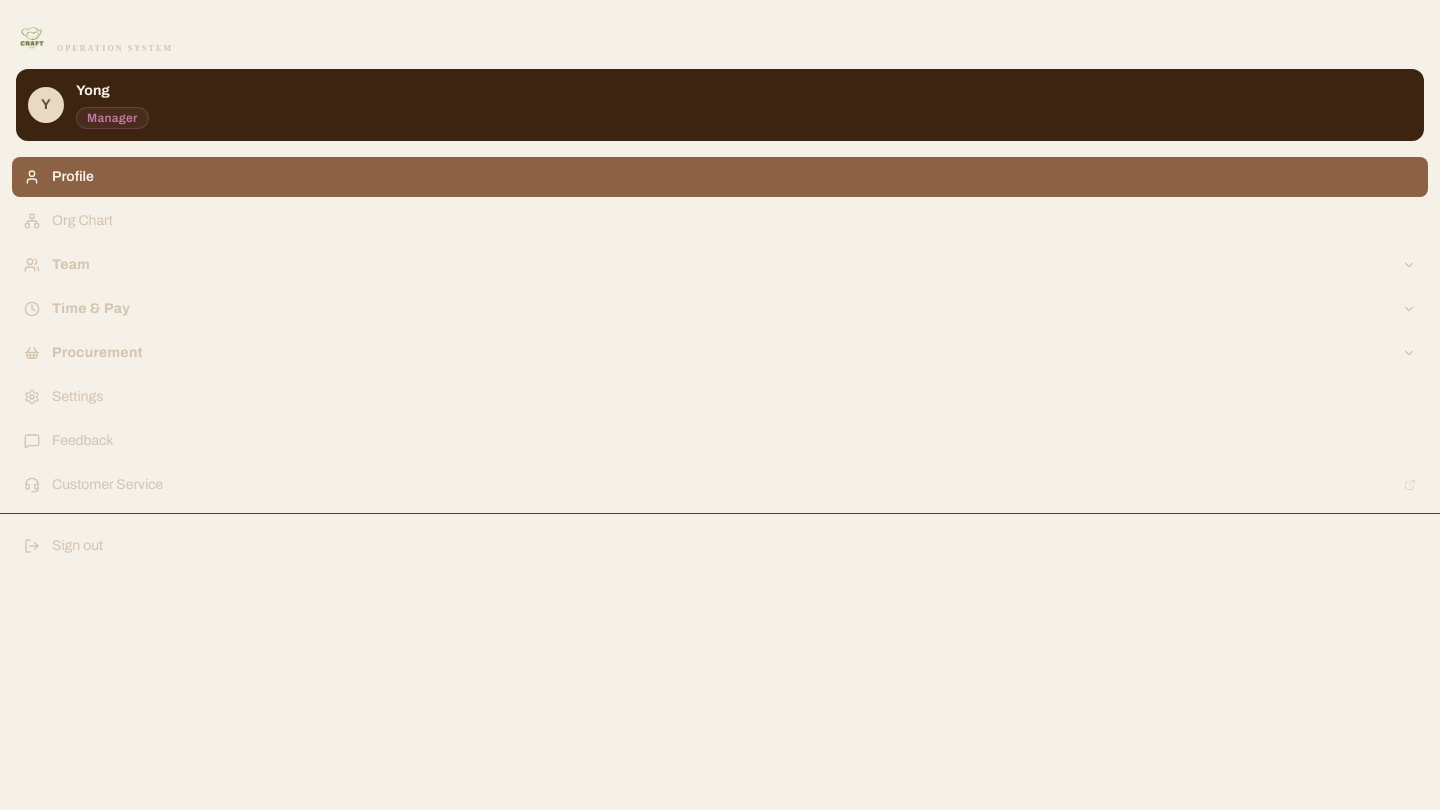
Test case: Customer Service entry › shows the failure message and keeps the drawer open
The width and height of the screenshot is (1440, 810).
Click the button "Customer Service" at (108, 484), box [12,465,1428,505]
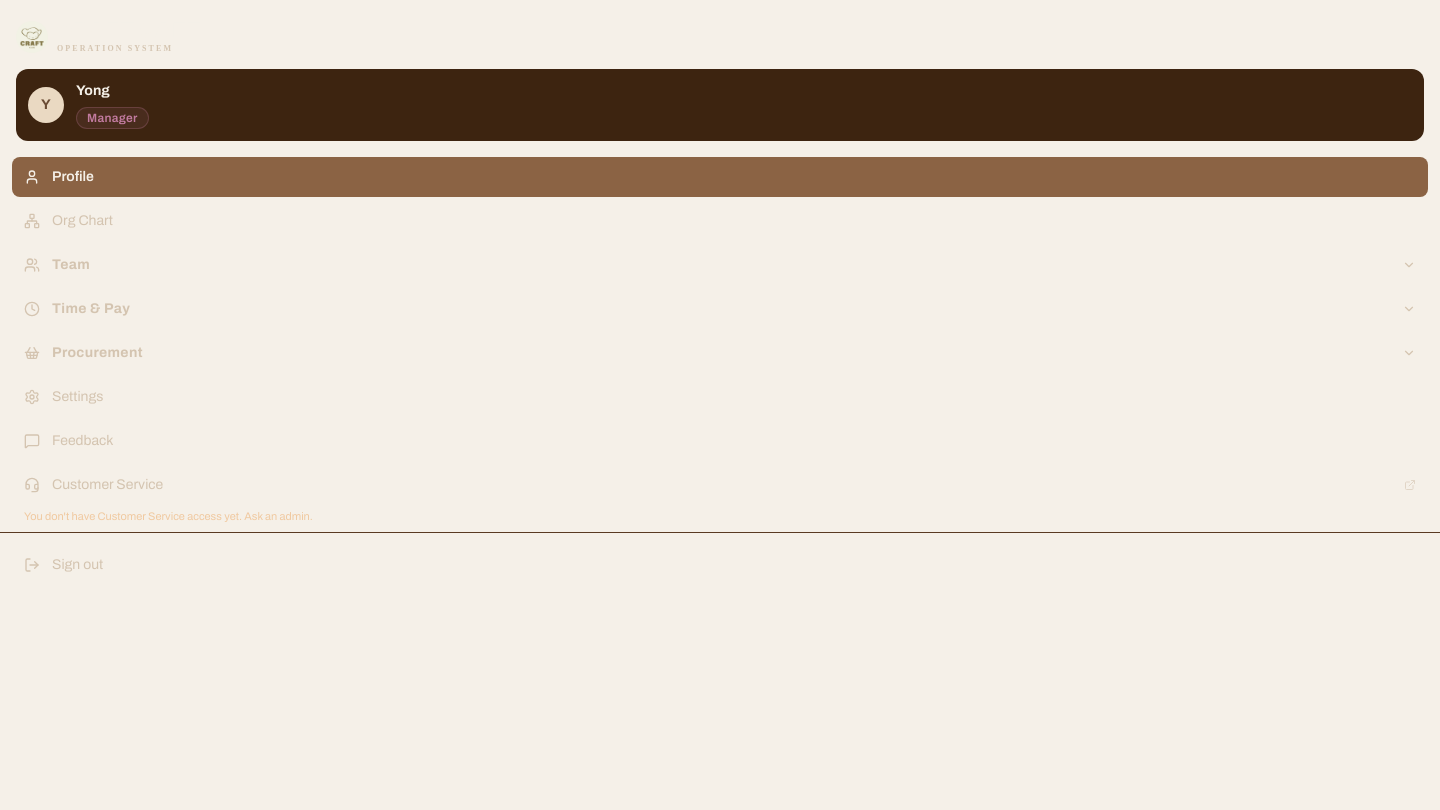
Expected: the message shows "Ask an admin", [24,510,313,522]
